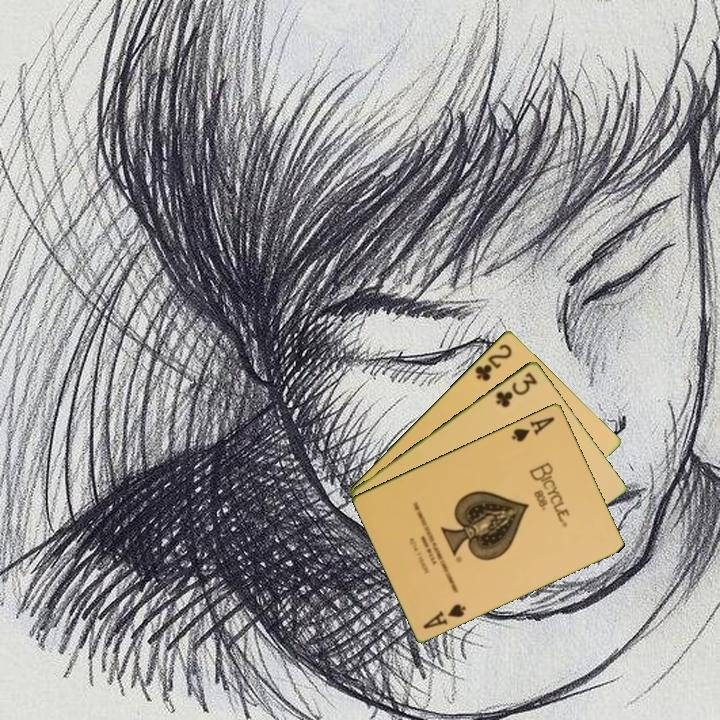2c: (471, 340, 515, 384)
3c: (492, 368, 541, 410)
As: (508, 413, 558, 444), (419, 600, 469, 631)
